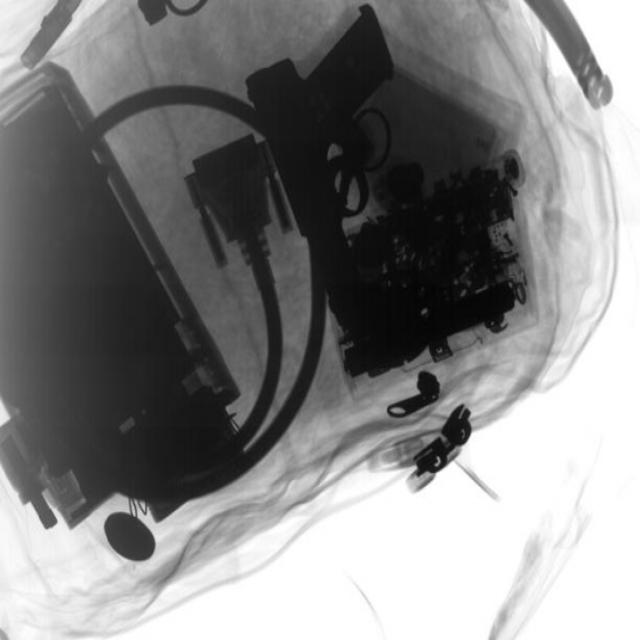GUN: (249, 30, 407, 304)
